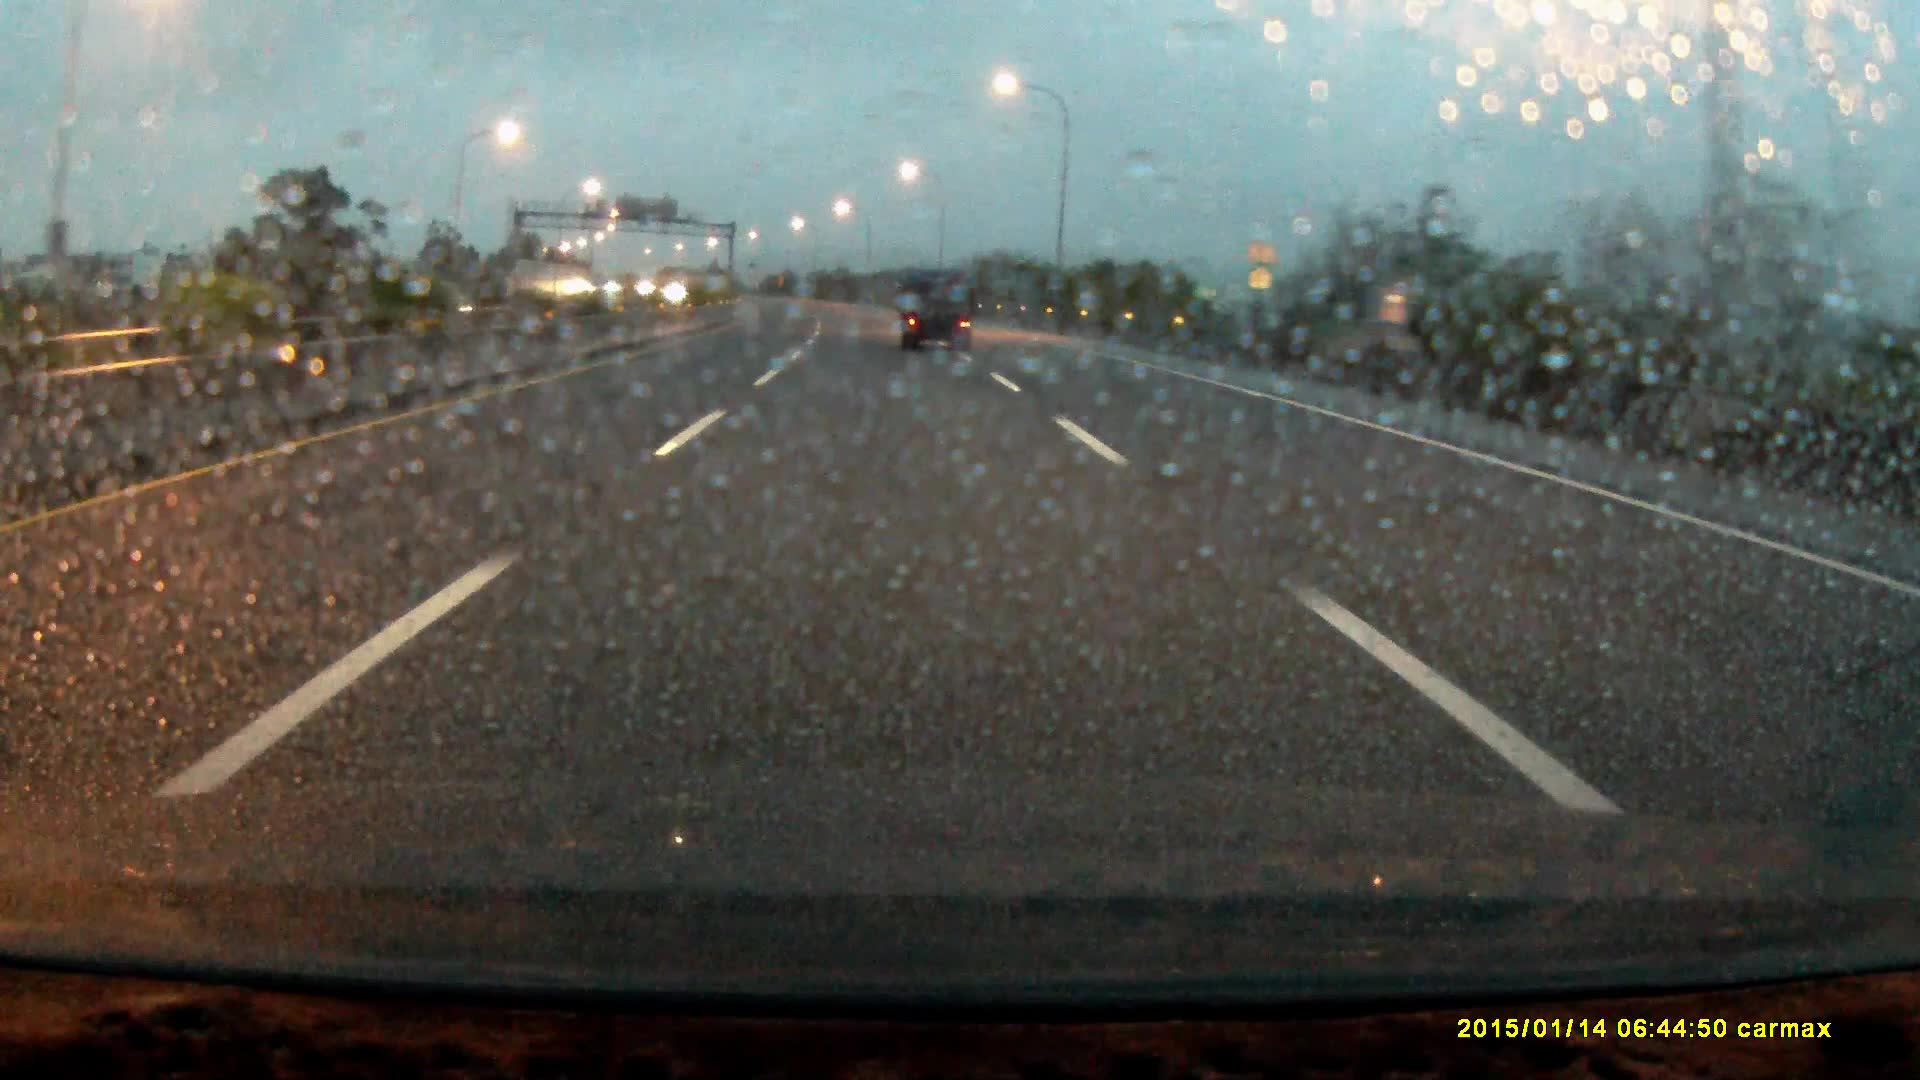vehicle: (899, 272, 975, 355)
